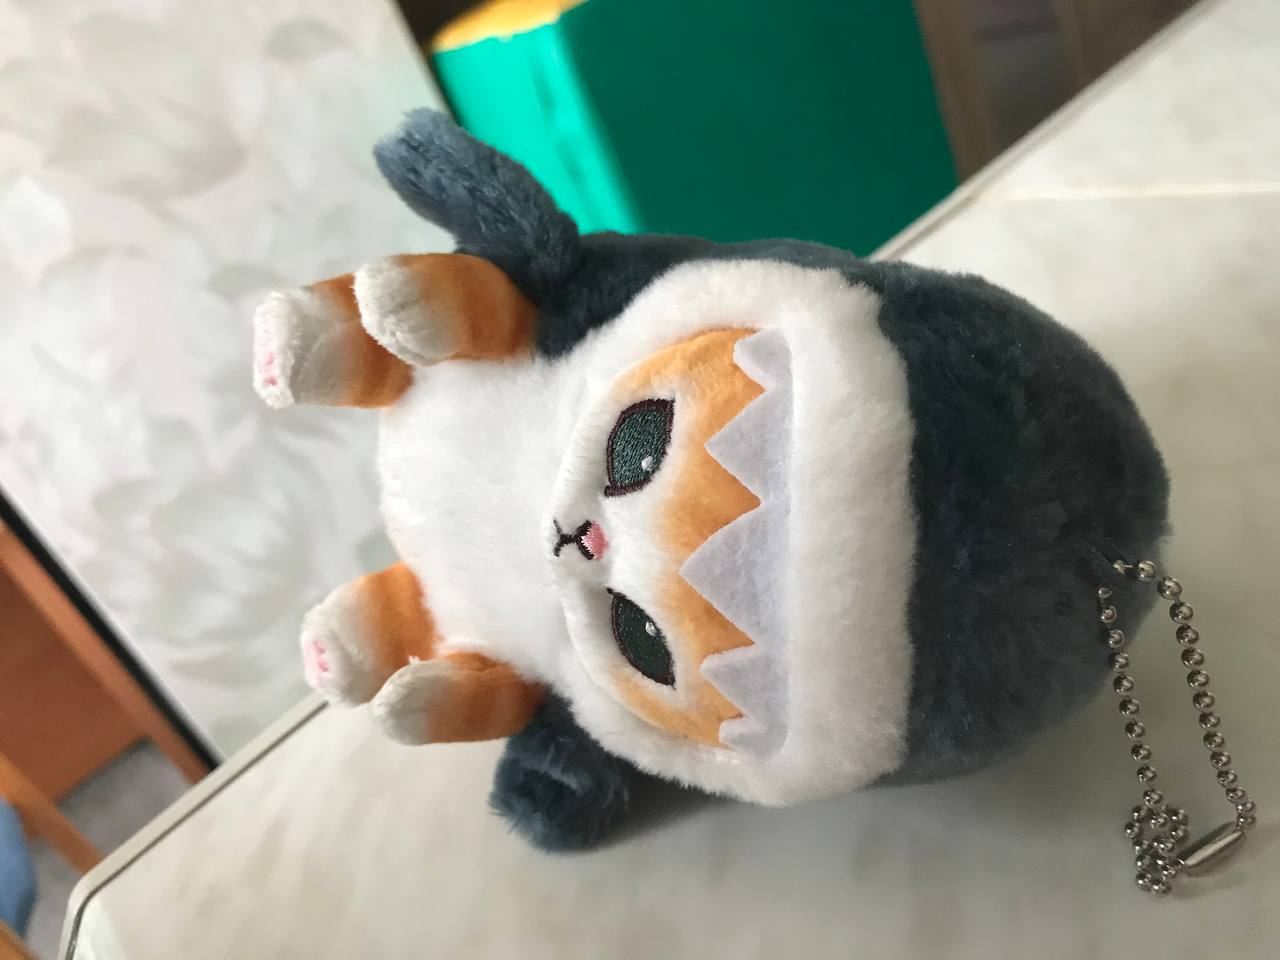cat_shark: (250, 105, 1174, 861)
